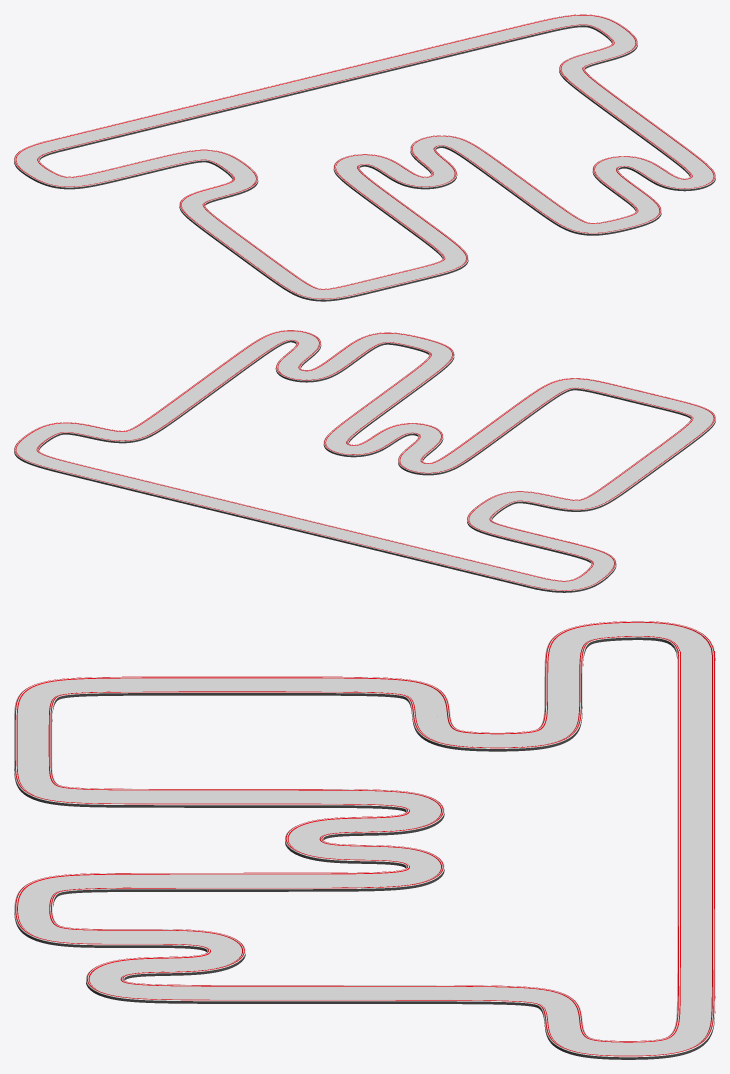
The model's file is pista 2 com divisória 1 1.fbx.
3 renders of one model, top to bottom at view 1: azimuth 30°, elevation 25°; view 2: azimuth 150°, elevation 25°; view 3: azimuth 270°, elevation 25°, orthographic. The views are drawn at different scales.
Parts seen in each view (by area): view 1: Cube; view 2: Cube; view 3: Cube.
Part boxes in pixels (bbox=[...]): Cube: bbox=[14, 14, 715, 301]; Cube: bbox=[14, 330, 715, 592]; Cube: bbox=[14, 621, 715, 1059].
Bounding box in the file's own units: 5654 × 19.93 × 3847.
